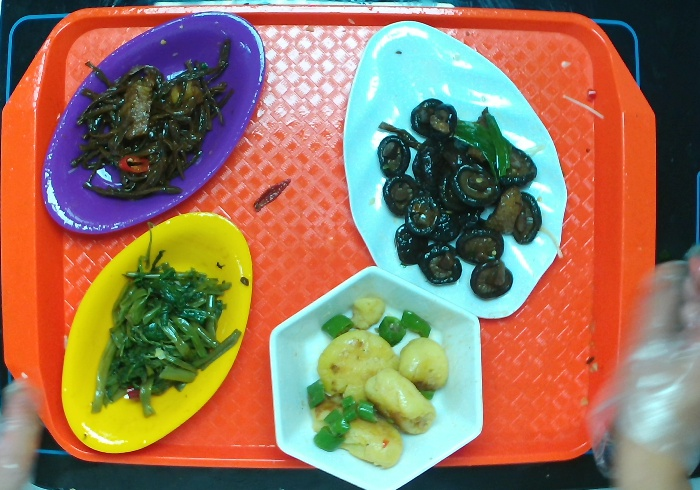RJxy-Bai_Ye_Pan: (341, 19, 569, 320)
RJxy-Fen_Hong_Tuo_Yuan: (39, 10, 267, 235)
RJxy-Huang_Se_Tuo_Yuan: (59, 210, 254, 455)
RJxy-Liu_Jiao_Wan: (267, 264, 484, 490)
